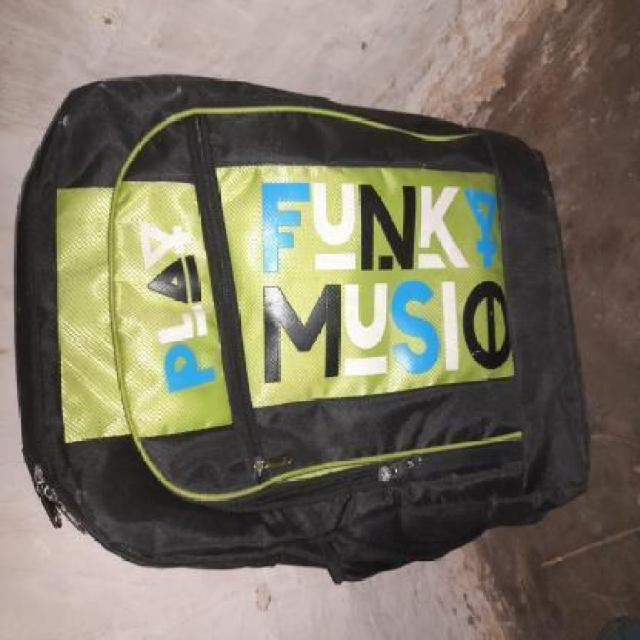backpack: (11, 71, 595, 591)
